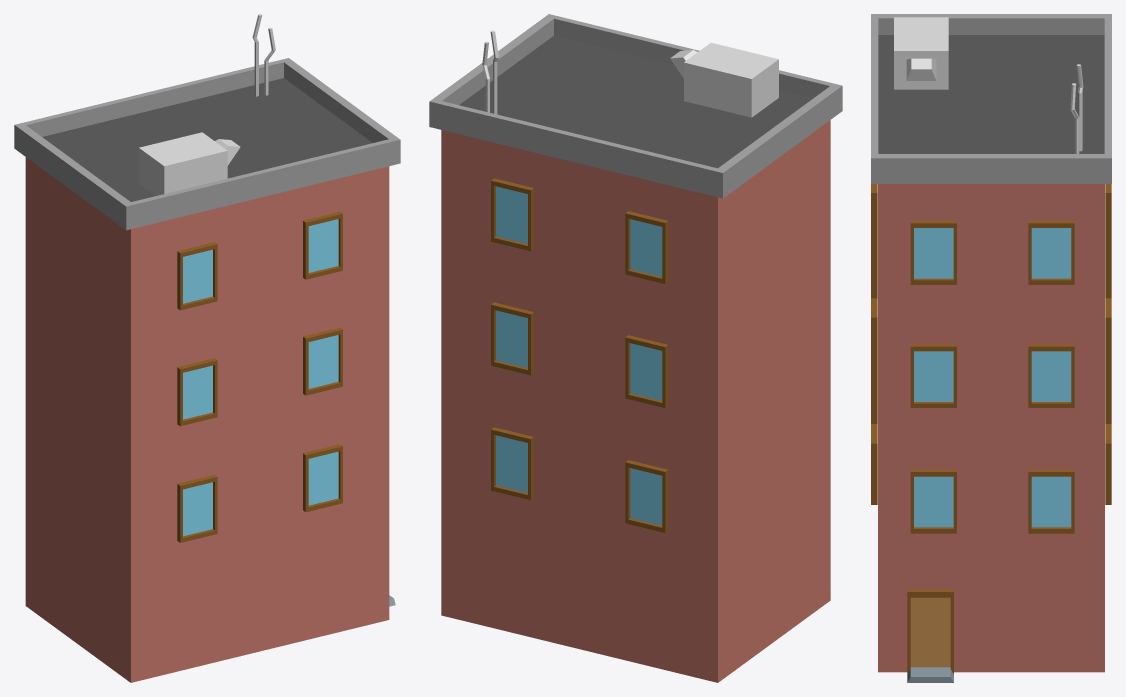
Rendered from tallthinbuilding.fbx.
3 renders of one model, left to right at view 1: azimuth 30°, elevation 25°; view 2: azimuth 150°, elevation 25°; view 3: azimuth 270°, elevation 25°, orthographic. The views are drawn at different scales.
Visible parts, largest first — view 1: Cube, Cube.002, Cube.003, Cylinder; view 2: Cube, Cube.002, Cube.003, Cylinder; view 3: Cube, Cube.002, Cube.003, Cylinder.
Part boxes in pixels (left/top/right/bottom): Cube: left=14, top=58, right=400, bottom=682; Cube.002: left=177, top=211, right=395, bottom=606; Cube.003: left=139, top=132, right=240, bottom=195; Cylinder: left=252, top=14, right=275, bottom=96; Cube: left=429, top=14, right=842, bottom=682; Cube.002: left=491, top=178, right=668, bottom=532; Cube.003: left=670, top=42, right=778, bottom=117; Cylinder: left=482, top=30, right=498, bottom=114; Cube: left=871, top=14, right=1111, bottom=672; Cube.002: left=871, top=184, right=1111, bottom=682; Cube.003: left=894, top=17, right=948, bottom=89; Cylinder: left=1070, top=64, right=1083, bottom=153.
Size of the model in its own units: 781 by 1423 by 528.
